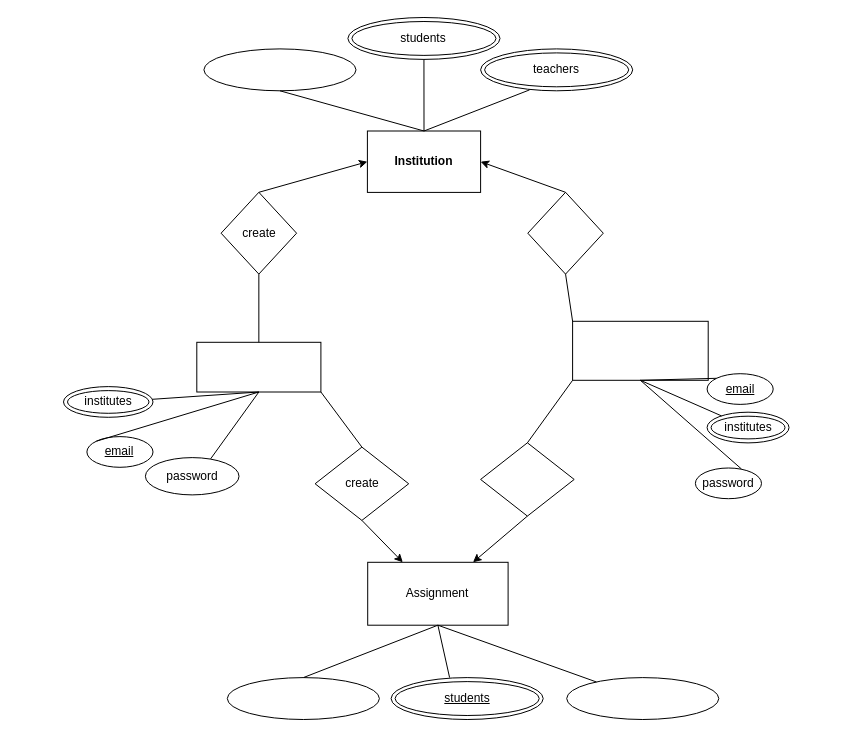
Some shapes in this 865 by 737 pixel diagram are drawn without their labels. Here are the shapes that lost their labels. From the top down, the box of each, then its label:
(203, 48, 356, 91): institute_id
(527, 191, 603, 274): join
(196, 341, 321, 392): Teacher
(572, 320, 708, 380): Student
(480, 442, 574, 516): view and complete
(226, 677, 379, 720): assignment_id
(566, 677, 719, 720): institute_id <<FK>>
